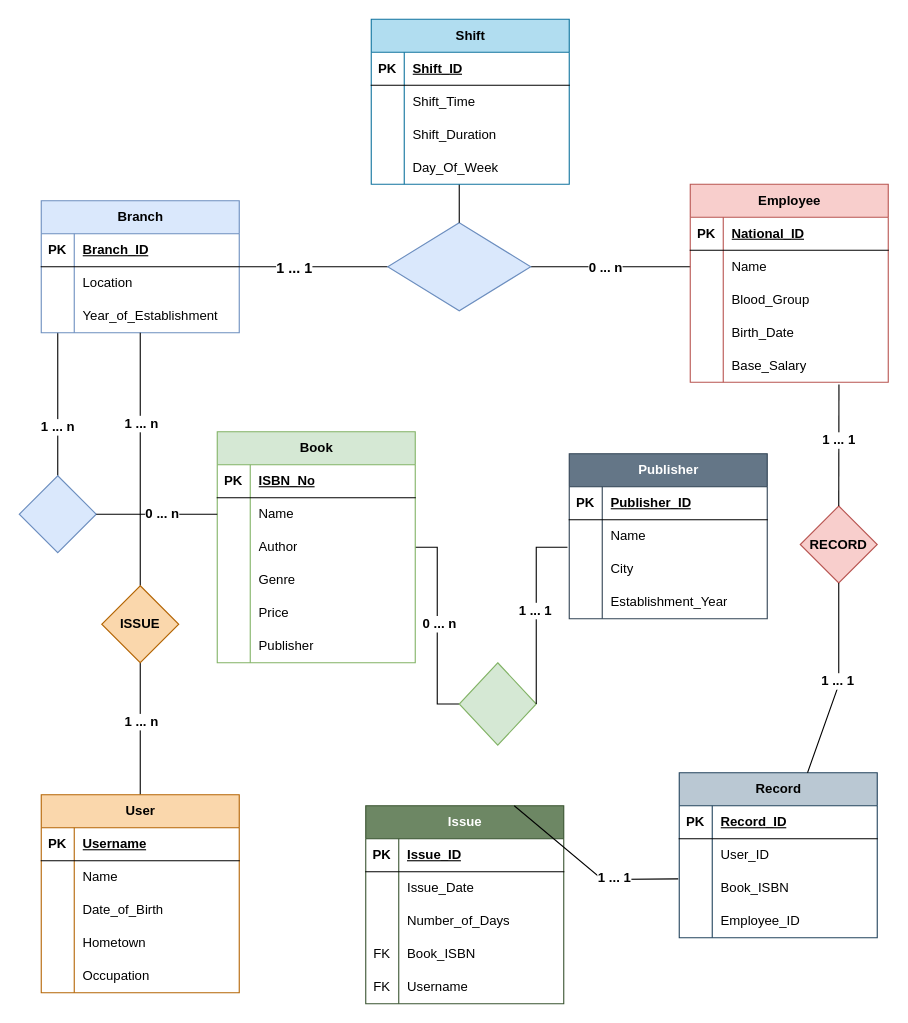
The diagram is 908 pixels wide and 1023 high, and some of its shapes have lost their labels. The centre of each missing label's shape, as x and y in pixels:
HAS: the point at 57,514
PUBLISH: the point at 497,703
RECRUITMENT: the point at 459,266
